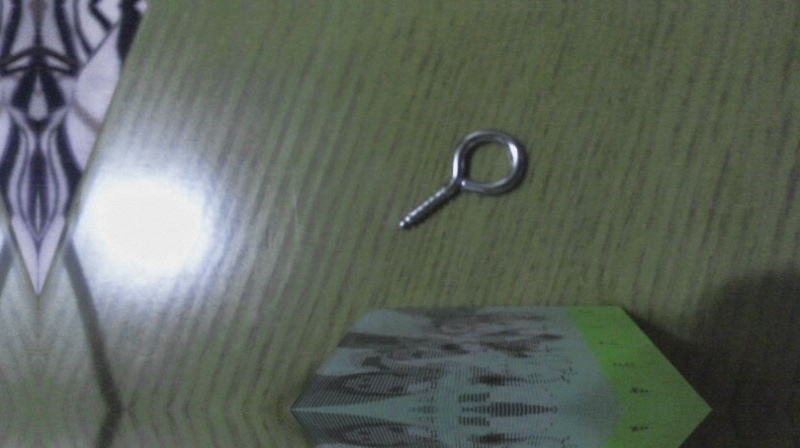O001: (393, 126, 531, 234)
